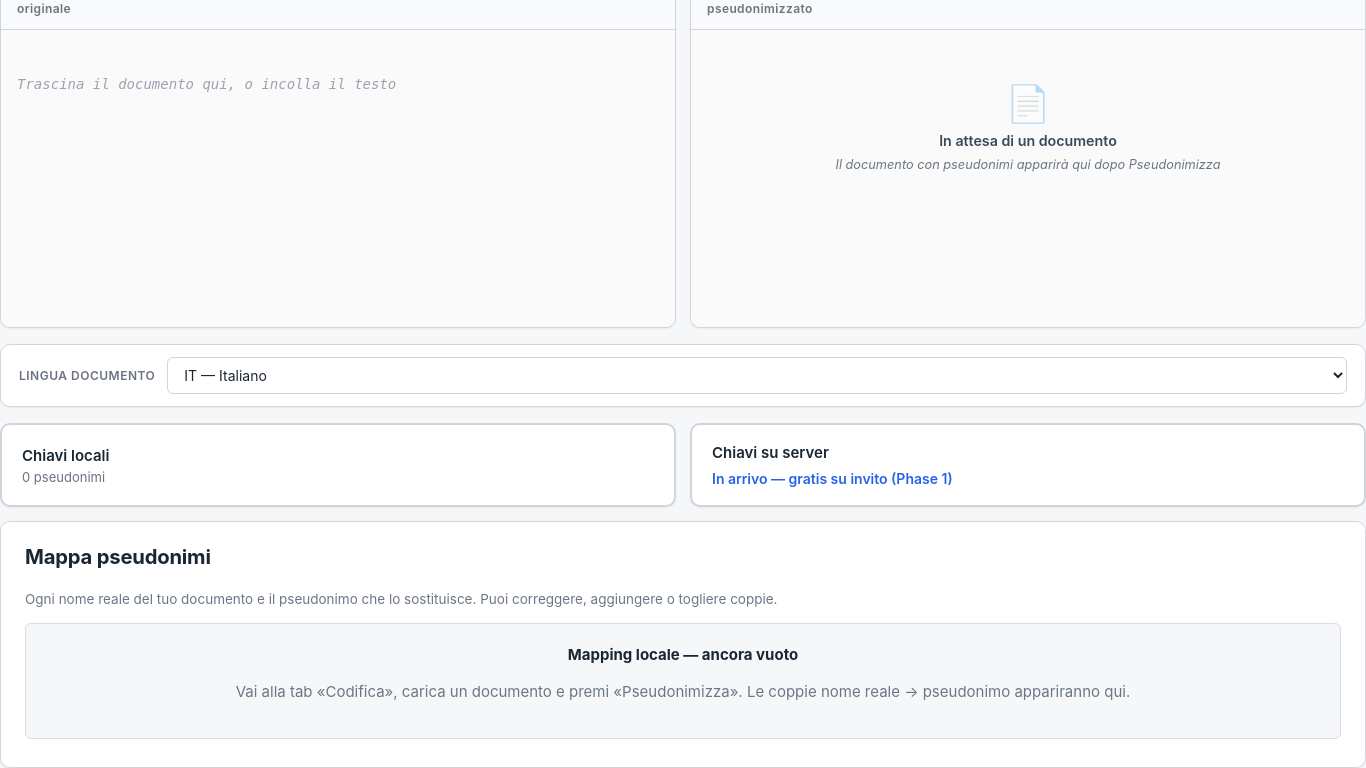
Test case: WireframeWorkArea — Mappa cards + modal › clicking "Chiavi su server" card opens the upsell modal
(page scrolled)
Click the button with test id "wireframe-card-server": {"x": 770, "y": 453} [690,423,1365,507]
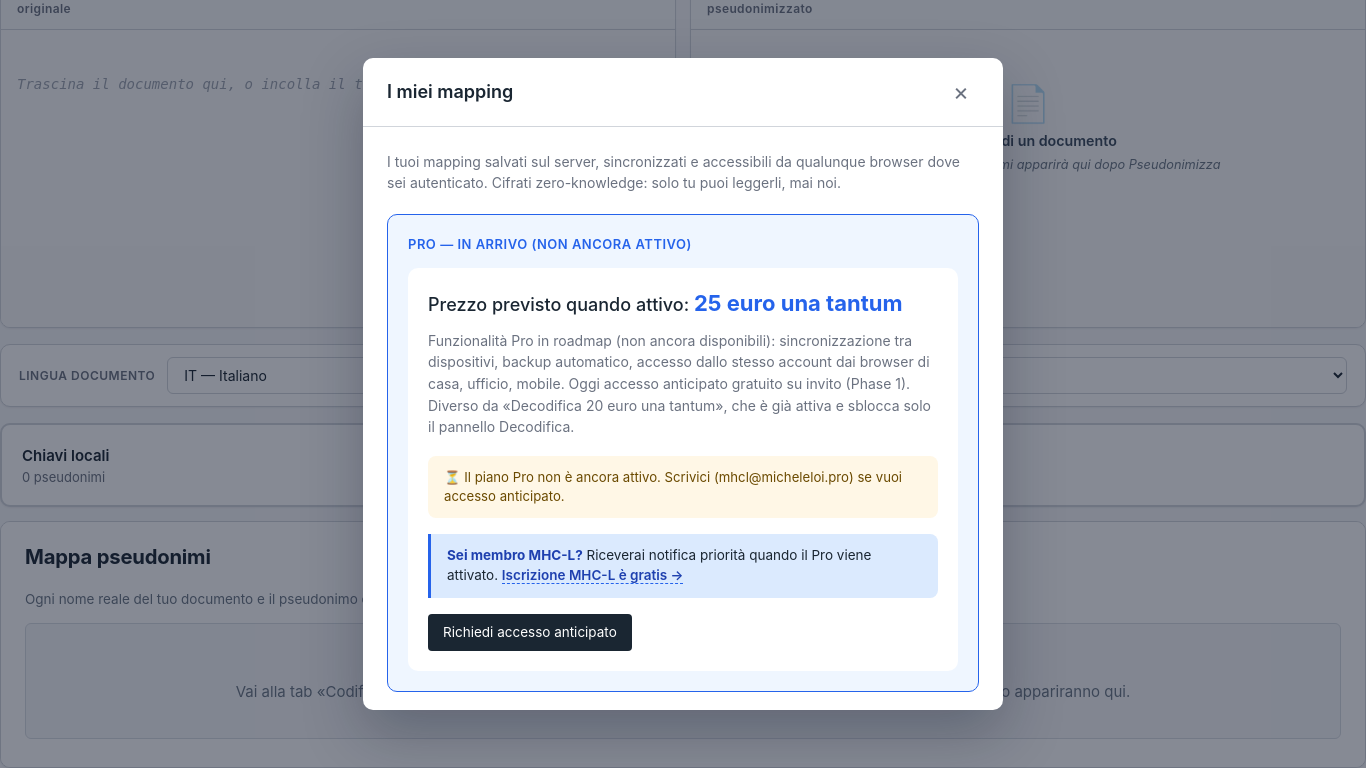
Now the element with test id "wireframe-modal-backdrop" is shown
Now the heading "I miei mapping" is shown, box [387,78,513,105]
